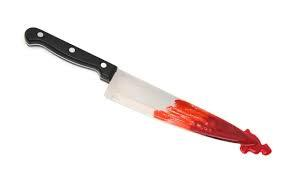Knife: (24, 26, 272, 155)
